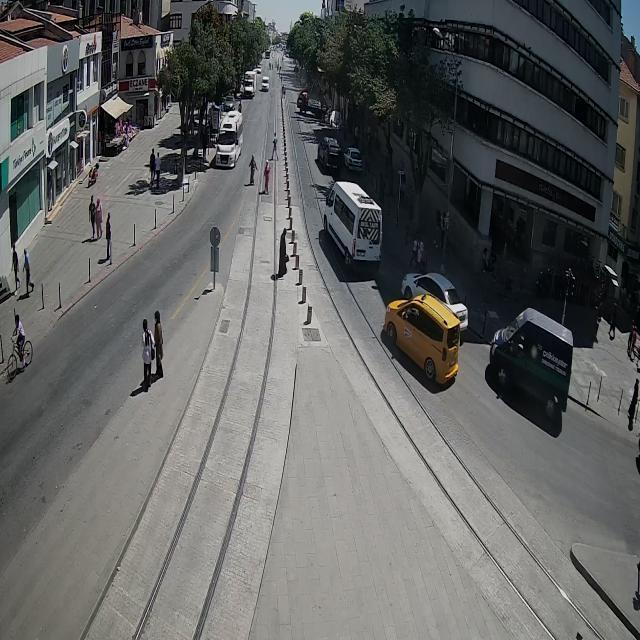Bus: (214, 110, 244, 170)
Car: (378, 296, 462, 386), (390, 269, 473, 327), (318, 136, 344, 170), (342, 144, 363, 171), (259, 74, 273, 93)
Truck: (296, 90, 338, 118), (240, 70, 257, 101)
Van: (487, 310, 582, 416), (319, 179, 391, 277)
